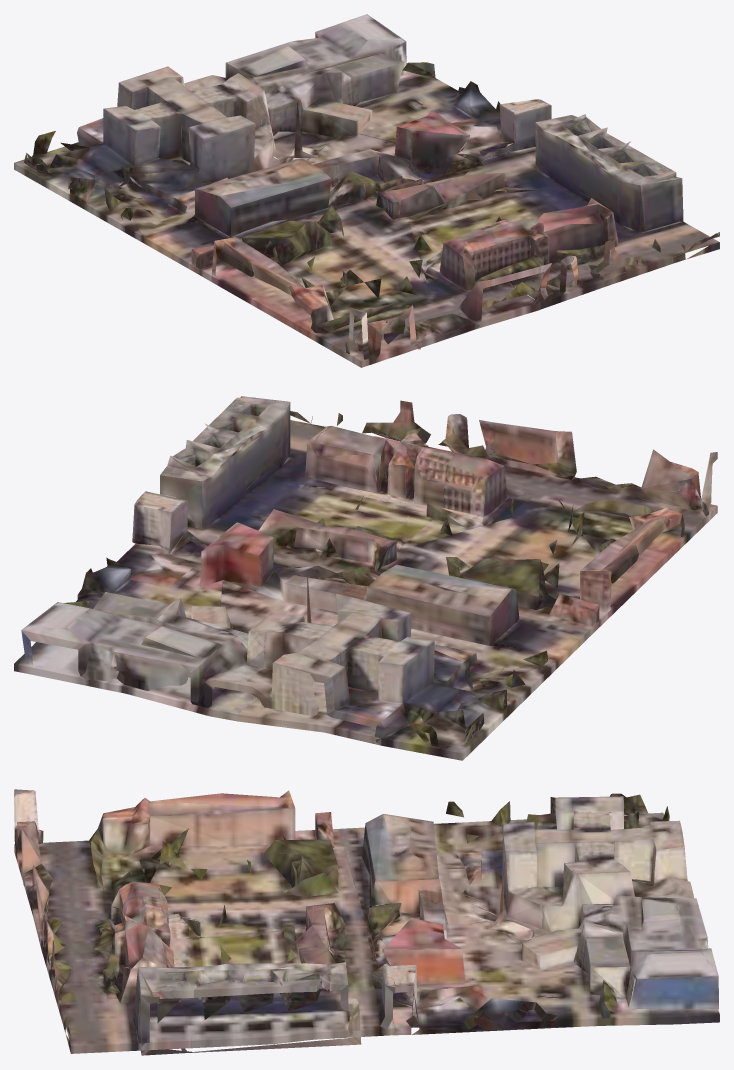
The picture shows the model from 3 angles, top to bottom: view 1: azimuth 30°, elevation 25°; view 2: azimuth 150°, elevation 25°; view 3: azimuth 270°, elevation 25°; orthographic projection. The views are drawn at different scales.
Parts seen in each view (by area): view 1: Mesh_0; view 2: Mesh_0; view 3: Mesh_0.
Boxes of the visible parts, box(x1,y1,x2,y2) form: Mesh_0: box(14, 14, 719, 367); Mesh_0: box(14, 396, 717, 760); Mesh_0: box(14, 789, 719, 1055).
Bounding box in the file's own units: 266 × 43.69 × 330.
2 materials, 2 textured.
